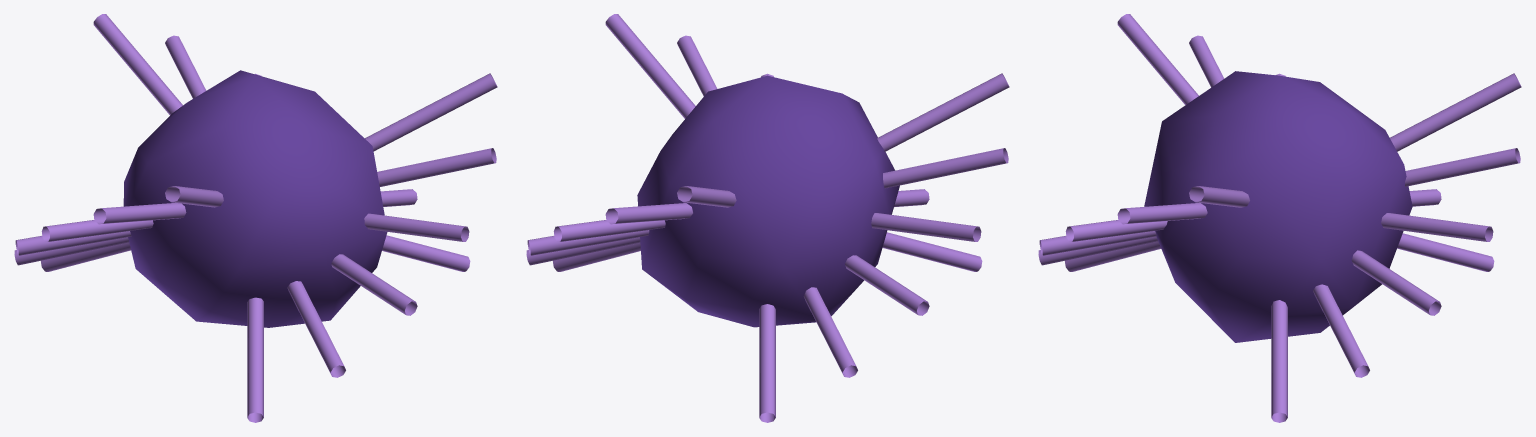
File: r087_development_undersea_additions_undersea_05.glb
3 renders of one model, left to right at view 1: azimuth 30°, elevation 25°; view 2: azimuth 150°, elevation 25°; view 3: azimuth 270°, elevation 25°, orthographic.
Parts seen in each view (by area): view 1: r087_development_undersea_additions_undersea_05.001; view 2: r087_development_undersea_additions_undersea_05.001; view 3: r087_development_undersea_additions_undersea_05.001.
Boxes of the visible parts, x1,y1,x2,y2 form: r087_development_undersea_additions_undersea_05.001: [14, 14, 497, 422]; r087_development_undersea_additions_undersea_05.001: [526, 14, 1009, 422]; r087_development_undersea_additions_undersea_05.001: [1038, 14, 1521, 422].
Bounding box in the file's own units: 2.62 × 1.47 × 2.59.
